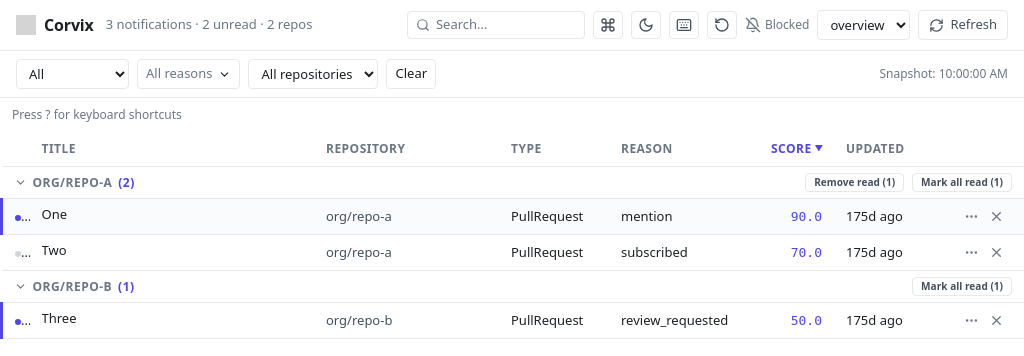
Test: App integration › switches dashboards and refetches with a ?dashboard= query
Select "triage" in the dropdown named "Select dashboard": [864, 25] box [817,10,910,40]
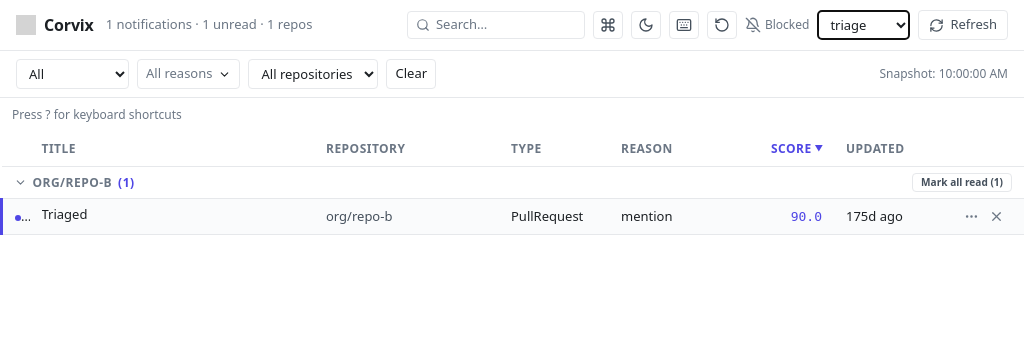
expect the link "Triaged" is shown: met, box [42,205,87,223]
